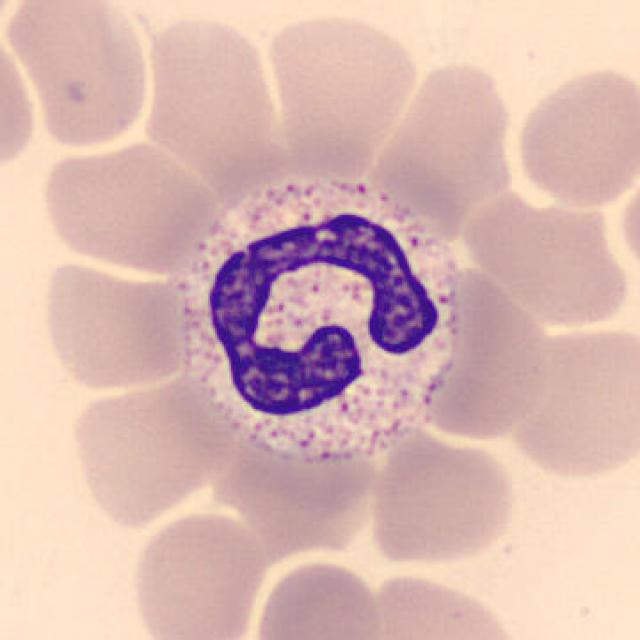Neutrophil: (173, 185, 471, 464)
RBC: (263, 7, 420, 182), (409, 261, 555, 446), (64, 374, 236, 529), (38, 136, 220, 275), (367, 55, 518, 217), (471, 187, 635, 331), (139, 9, 281, 173), (3, 0, 156, 152), (502, 319, 638, 483), (364, 428, 518, 568), (37, 257, 194, 393), (510, 62, 638, 212), (126, 508, 268, 640), (361, 569, 528, 640), (249, 555, 386, 640), (0, 25, 39, 183), (615, 165, 640, 278)
